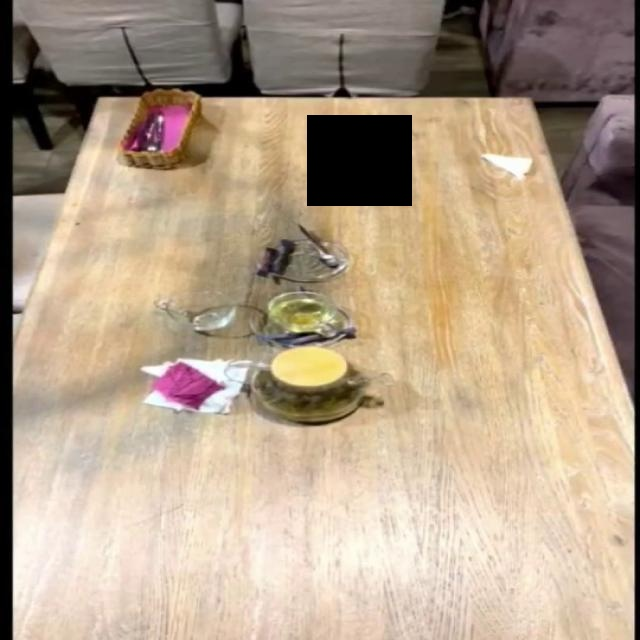tea: (250, 345, 370, 423)
